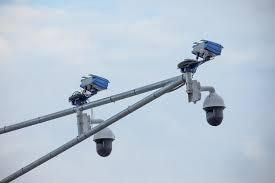Speed-Camera: (173, 35, 243, 129), (64, 69, 125, 159)
